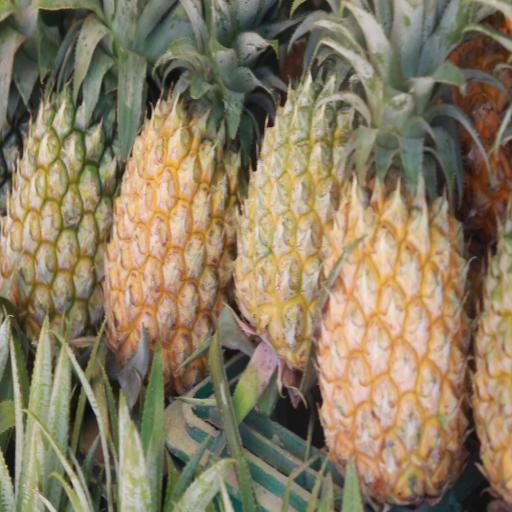------------------------------: (0, 0, 125, 354)
Pineapple - v8 v1: (312, 0, 470, 505), (98, 0, 239, 403), (227, 0, 360, 401)
